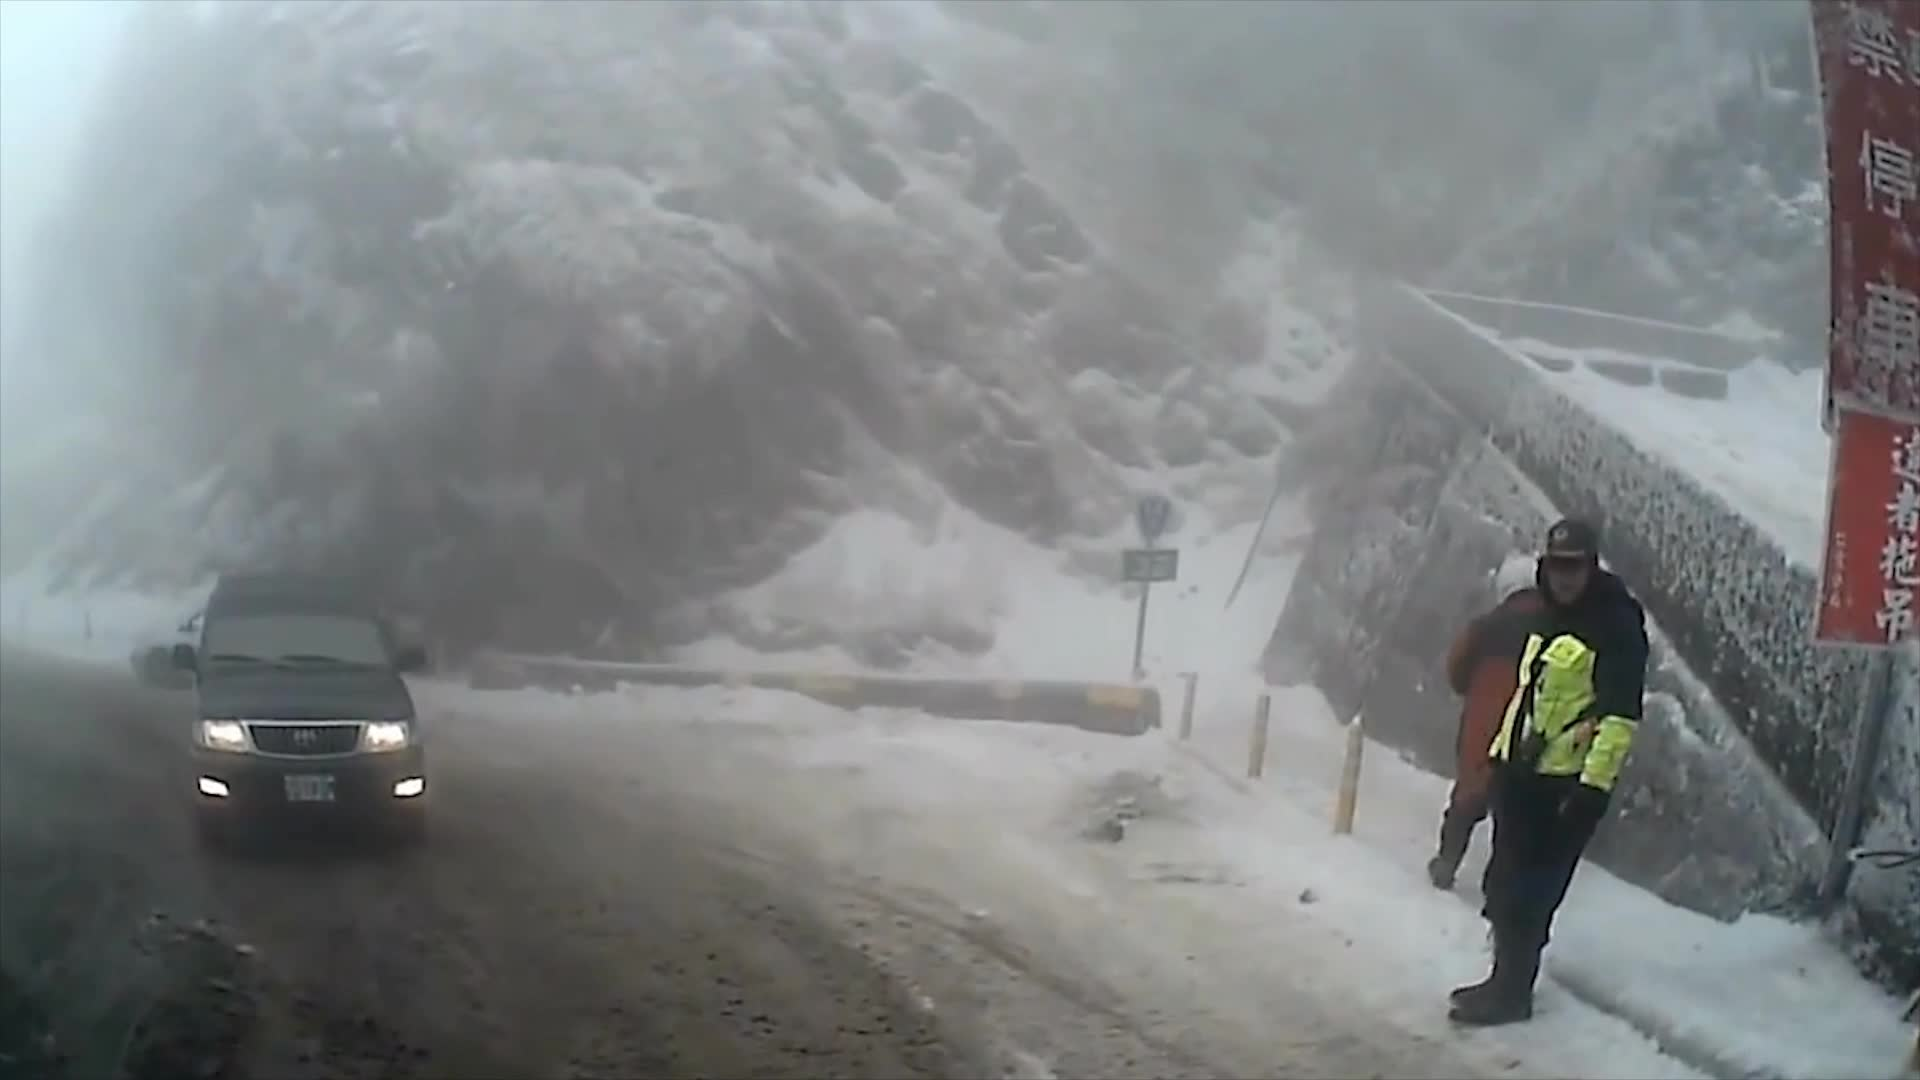pedestrian: (1447, 521, 1652, 1037), (1448, 554, 1576, 886)
vehicle: (170, 577, 429, 856)
